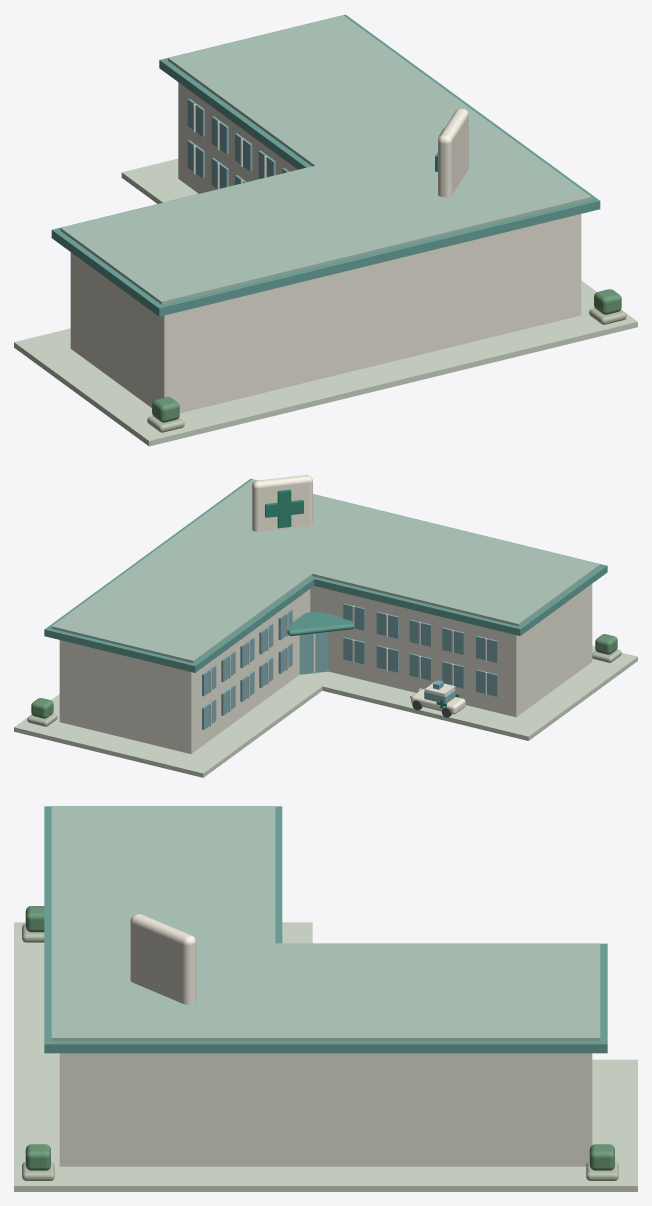
The model's file is hospital.glb.
3 renders of one model, top to bottom at view 1: azimuth 30°, elevation 25°; view 2: azimuth 150°, elevation 25°; view 3: azimuth 270°, elevation 25°, orthographic. The views are drawn at different scales.
Parts seen in each view (by area): view 1: 医院 · 旅途医疗中心; view 2: 医院 · 旅途医疗中心; view 3: 医院 · 旅途医疗中心.
Boxes of the visible parts, left/top/right/bottom form: 医院 · 旅途医疗中心: left=14, top=14, right=637, bottom=446; 医院 · 旅途医疗中心: left=14, top=475, right=637, bottom=777; 医院 · 旅途医疗中心: left=14, top=806, right=637, bottom=1191.
Size of the model in its own units: 6.14 by 2.21 by 6.14.
